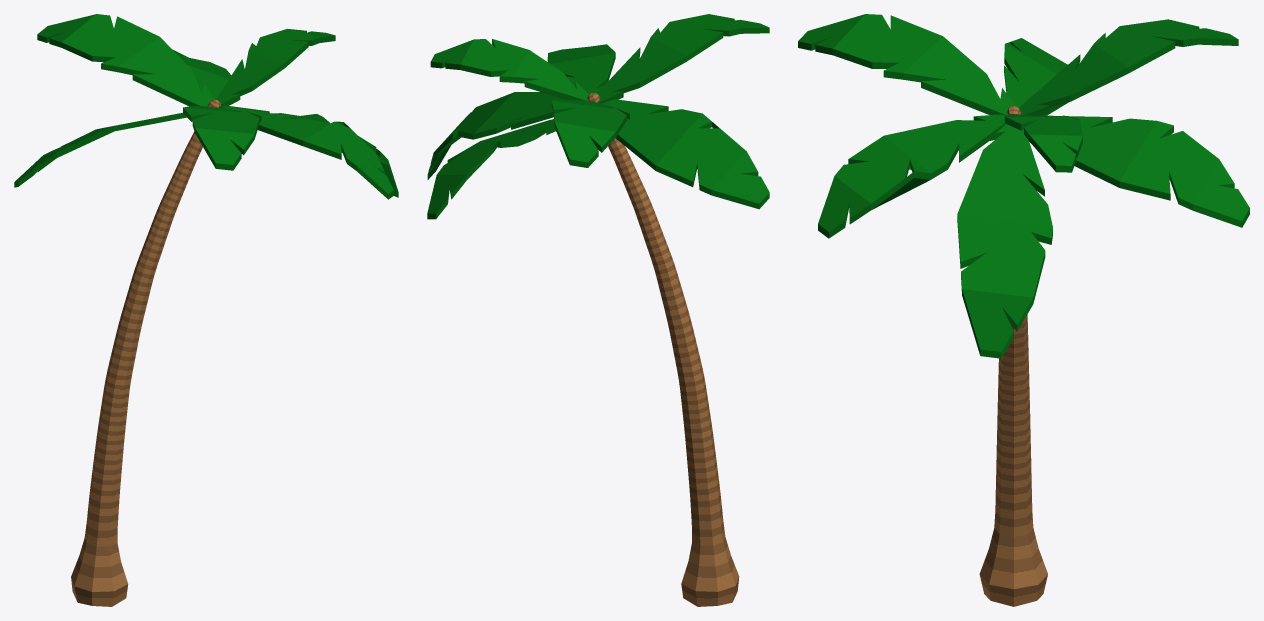
The model's file is Palme.fbx.
3 views of the same model, side by side, from view 1: azimuth 30°, elevation 25°; view 2: azimuth 150°, elevation 25°; view 3: azimuth 270°, elevation 25° (orthographic). The views are drawn at different scales.
Parts seen in each view (by area): view 1: Plane; view 2: Plane; view 3: Plane.
Part boxes in pixels (bbox=[...]): Plane: bbox=[14, 14, 398, 606]; Plane: bbox=[427, 14, 769, 606]; Plane: bbox=[798, 14, 1249, 606].
Size of the model in its own units: 330 by 460 by 309.
Materials: 1 (1 with a texture image).
